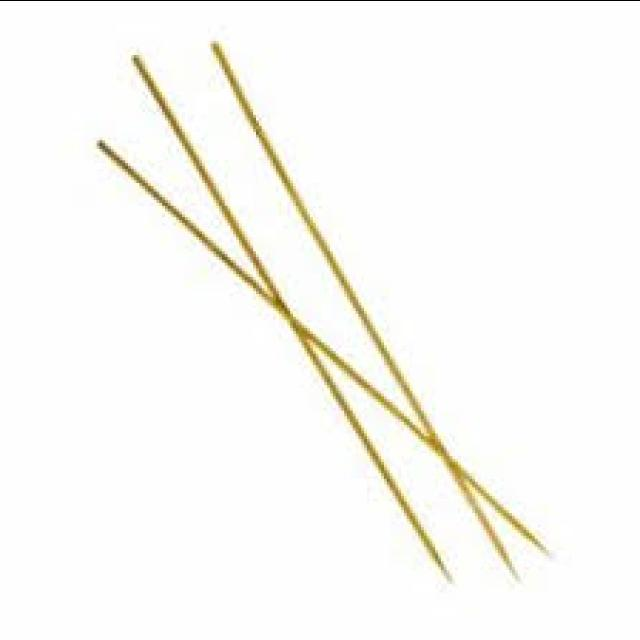stick: (133, 55, 452, 580), (212, 41, 517, 574)
